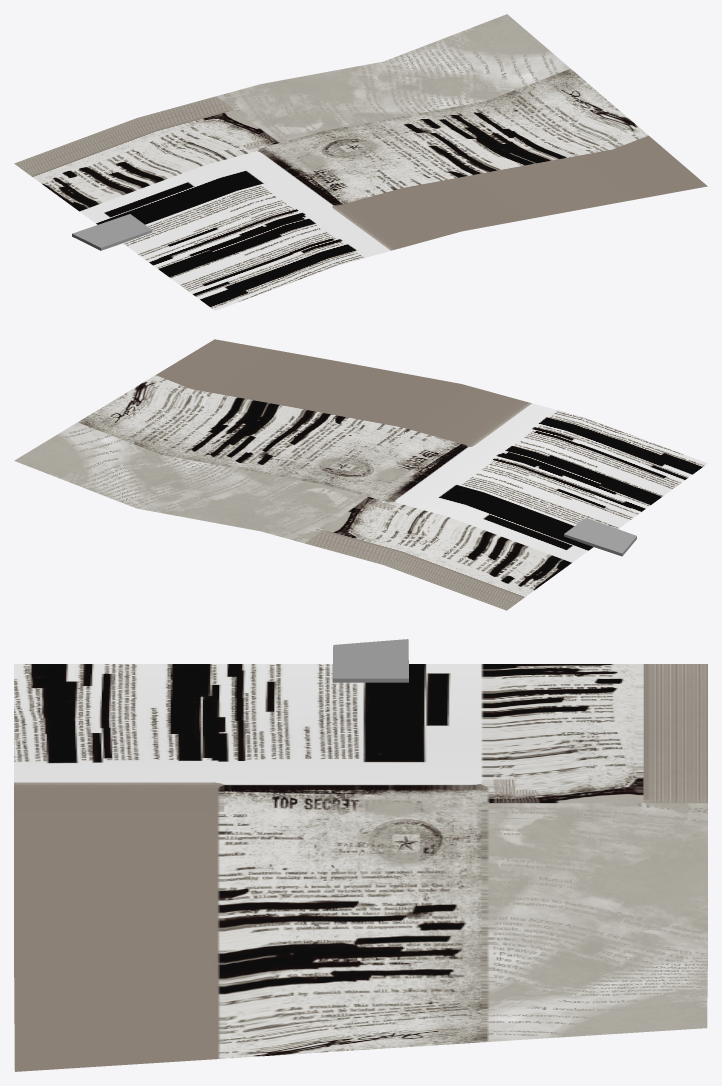
File: SM_Prop_Stick_Paper_01.fbx
3 views of the same model, one above another, from view 1: azimuth 30°, elevation 25°; view 2: azimuth 150°, elevation 25°; view 3: azimuth 270°, elevation 25° (orthographic). The views are drawn at different scales.
Visible parts, largest first — view 1: SM_Prop_Stick_Paper_01; view 2: SM_Prop_Stick_Paper_01; view 3: SM_Prop_Stick_Paper_01.
Boxes of the visible parts, x1,y1,x2,y2 form: SM_Prop_Stick_Paper_01: [14, 14, 707, 310]; SM_Prop_Stick_Paper_01: [14, 339, 707, 610]; SM_Prop_Stick_Paper_01: [14, 639, 707, 1071].
Bounding box in the file's own units: 57.87 × 3.38 × 38.66.
2 materials, 1 textured.
